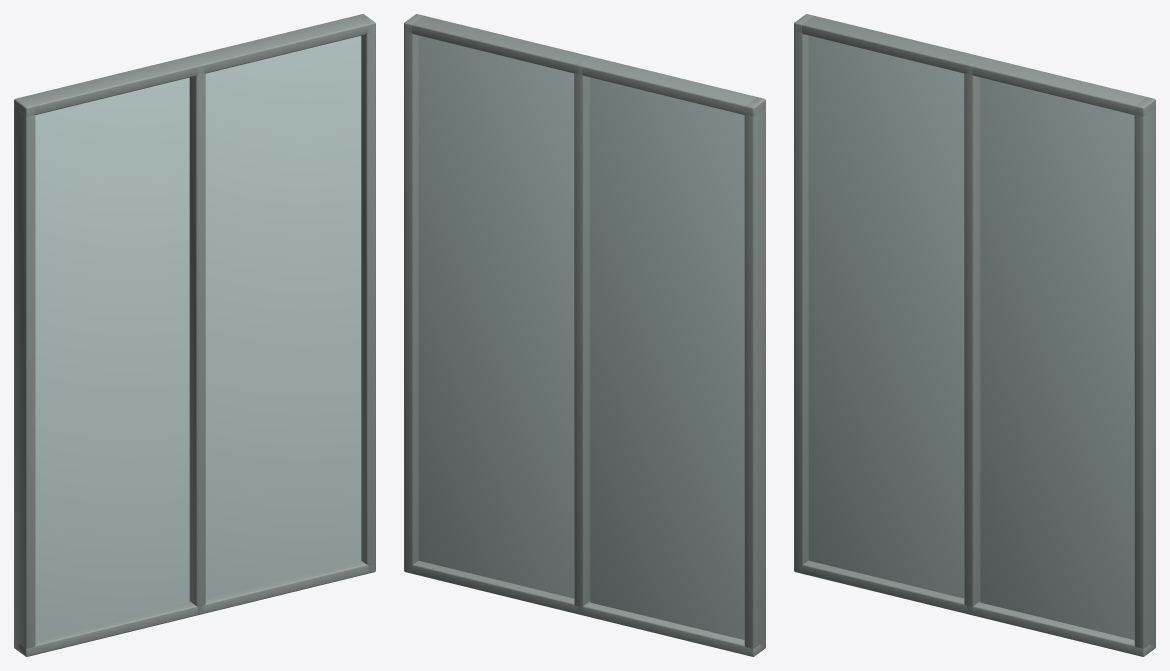
File: window-solarium.glb
3 renders of one model, left to right at view 1: azimuth 30°, elevation 25°; view 2: azimuth 150°, elevation 25°; view 3: azimuth 330°, elevation 25°, orthographic.
Visible parts, largest first — view 1: window-solarium; view 2: window-solarium; view 3: window-solarium.
Boxes of the visible parts, x1,y1,x2,y2 form: window-solarium: (14,14,375,656); window-solarium: (404,14,765,656); window-solarium: (794,14,1155,656).
Size of the model in its own units: 1.6 by 2.4 by 0.1.
